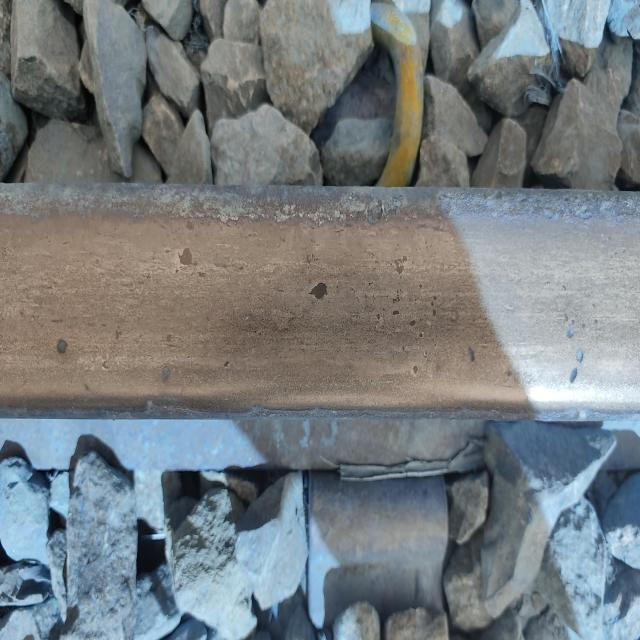Good Fasteners: (371, 2, 424, 187)
Missing Fastener: (292, 444, 480, 640)
